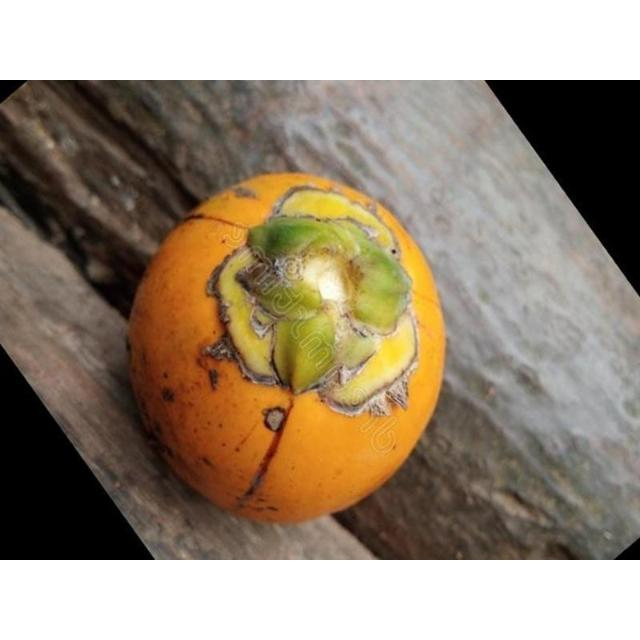good: (126, 173, 450, 526)
